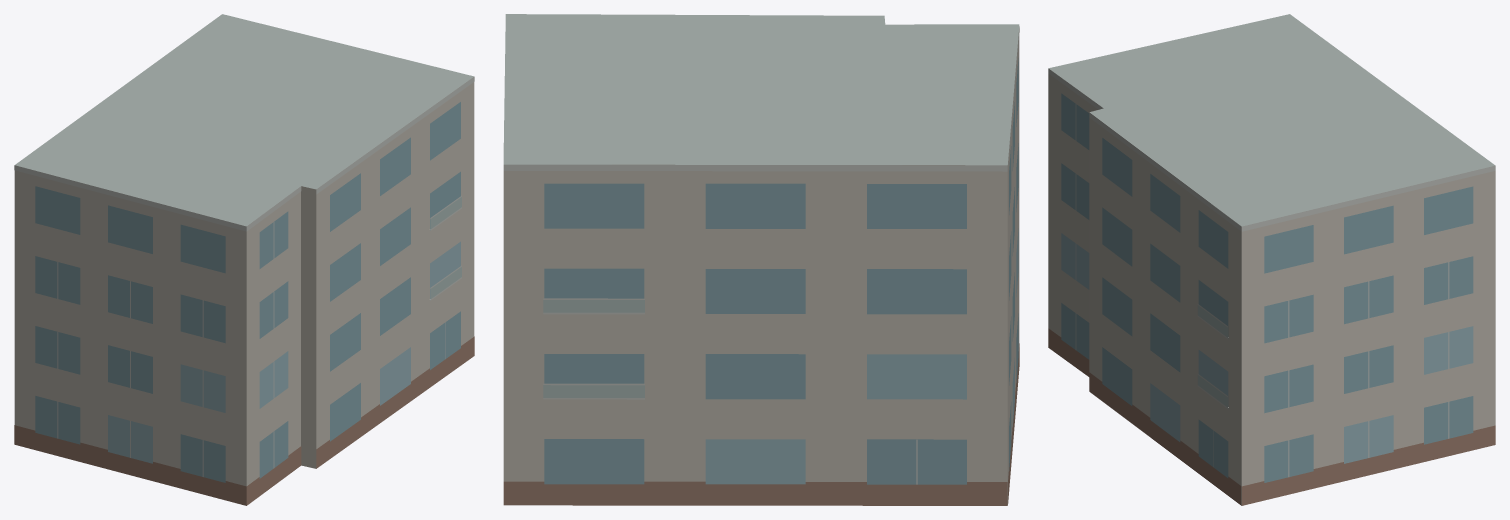
File: survey-upis-32584945.glb
3 renders of one model, left to right at view 1: azimuth 30°, elevation 25°; view 2: azimuth 150°, elevation 25°; view 3: azimuth 270°, elevation 25°, orthographic. The views are drawn at different scales.
Parts seen in each view (by area): view 1: survey-upis-32584945.tmp; view 2: survey-upis-32584945.tmp; view 3: survey-upis-32584945.tmp.
Part boxes in pixels (left/top/right/bottom): survey-upis-32584945.tmp: left=14, top=14, right=474, bottom=505; survey-upis-32584945.tmp: left=503, top=14, right=1019, bottom=505; survey-upis-32584945.tmp: left=1048, top=14, right=1495, bottom=505.
Bounding box in the file's own units: 21.47 × 13.15 × 19.1.
